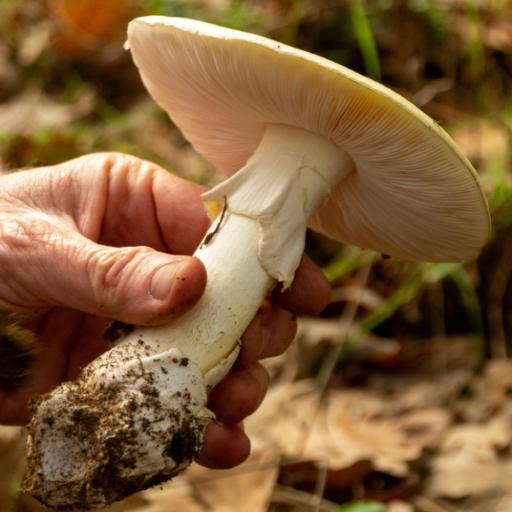Death Cap: (0, 3, 512, 512)
